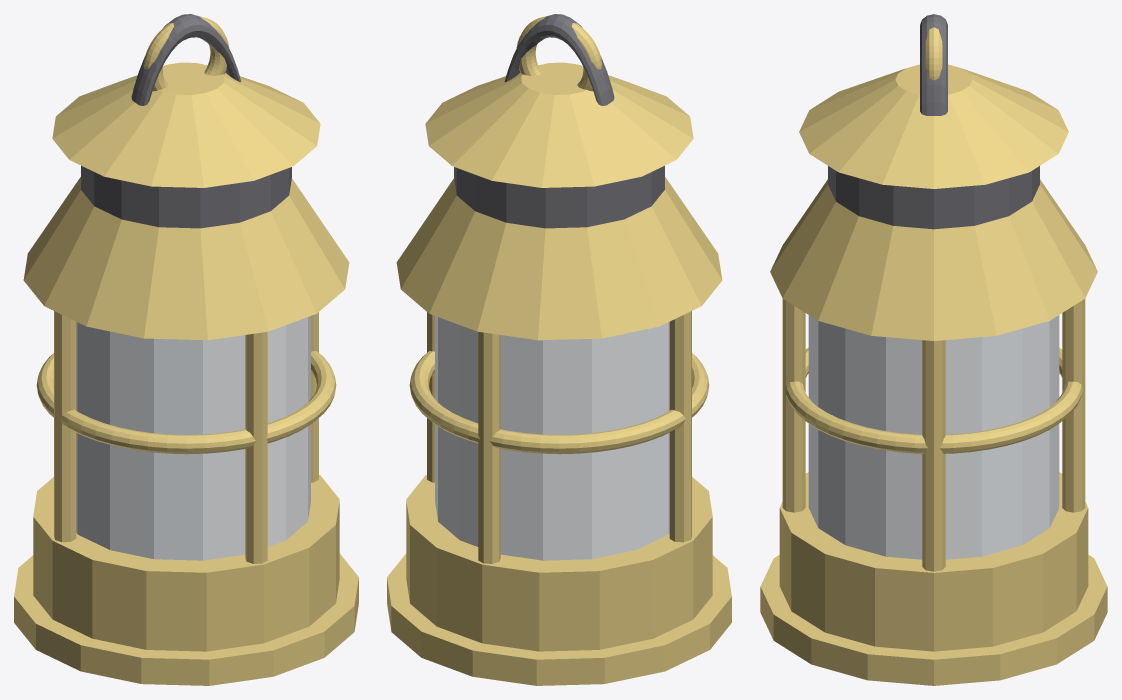
The model's file is mining_lantern.glb.
3 renders of one model, left to right at view 1: azimuth 30°, elevation 25°; view 2: azimuth 150°, elevation 25°; view 3: azimuth 270°, elevation 25°, orthographic.
Visible parts, largest first — view 1: Cylinder.002, Cone.001, Cylinder, Cone.002, Cylinder.001, Cylinder.007, Torus, Cylinder.006, Cylinder.005, Torus.002, Torus.001, Cylinder.003; view 2: Cylinder.002, Cone.001, Cylinder, Cone.002, Cylinder.001, Cylinder.007, Torus, Cylinder.004, Cylinder.005, Torus.002, Torus.001, Cylinder.003; view 3: Cylinder.002, Cone.001, Cylinder, Cone.002, Cylinder.001, Cylinder.007, Torus, Cylinder.003, Cylinder.004, Cylinder.006, Torus.002, Torus.001.
Part boxes in pixels (x1,y1,x2,y2): Cylinder.002: [76, 316, 310, 560]; Cone.001: [23, 177, 349, 340]; Cylinder: [33, 475, 339, 651]; Cone.002: [52, 62, 320, 187]; Cylinder.001: [14, 553, 358, 685]; Cylinder.007: [81, 165, 291, 228]; Torus: [36, 351, 336, 454]; Cylinder.006: [245, 332, 267, 563]; Cylinder.005: [54, 311, 76, 542]; Torus.002: [131, 14, 241, 105]; Torus.001: [143, 16, 229, 91]; Cylinder.003: [311, 312, 318, 482]; Cylinder.002: [435, 316, 669, 560]; Cone.001: [396, 177, 722, 340]; Cylinder: [406, 475, 712, 651]; Cone.002: [425, 62, 693, 187]; Cylinder.001: [387, 553, 731, 685]; Cylinder.007: [454, 165, 664, 228]; Torus: [409, 351, 709, 454]; Cylinder.004: [478, 332, 500, 563]; Cylinder.005: [669, 311, 691, 542]; Torus.002: [504, 14, 614, 105]; Torus.001: [516, 16, 602, 91]; Cylinder.003: [427, 312, 434, 482]; Cylinder.002: [808, 315, 1059, 559]; Cone.001: [770, 179, 1097, 340]; Cylinder: [779, 472, 1088, 651]; Cone.002: [799, 64, 1068, 188]; Cylinder.001: [760, 555, 1107, 685]; Cylinder.007: [828, 166, 1039, 229]; Torus: [785, 347, 1082, 453]; Cylinder.003: [922, 340, 945, 571]; Cylinder.004: [1062, 299, 1085, 512]; Cylinder.006: [782, 299, 805, 512]; Torus.002: [920, 14, 947, 115]; Torus.001: [925, 14, 942, 80].
Size of the model in its own units: 0.36 by 0.682 by 0.36.
